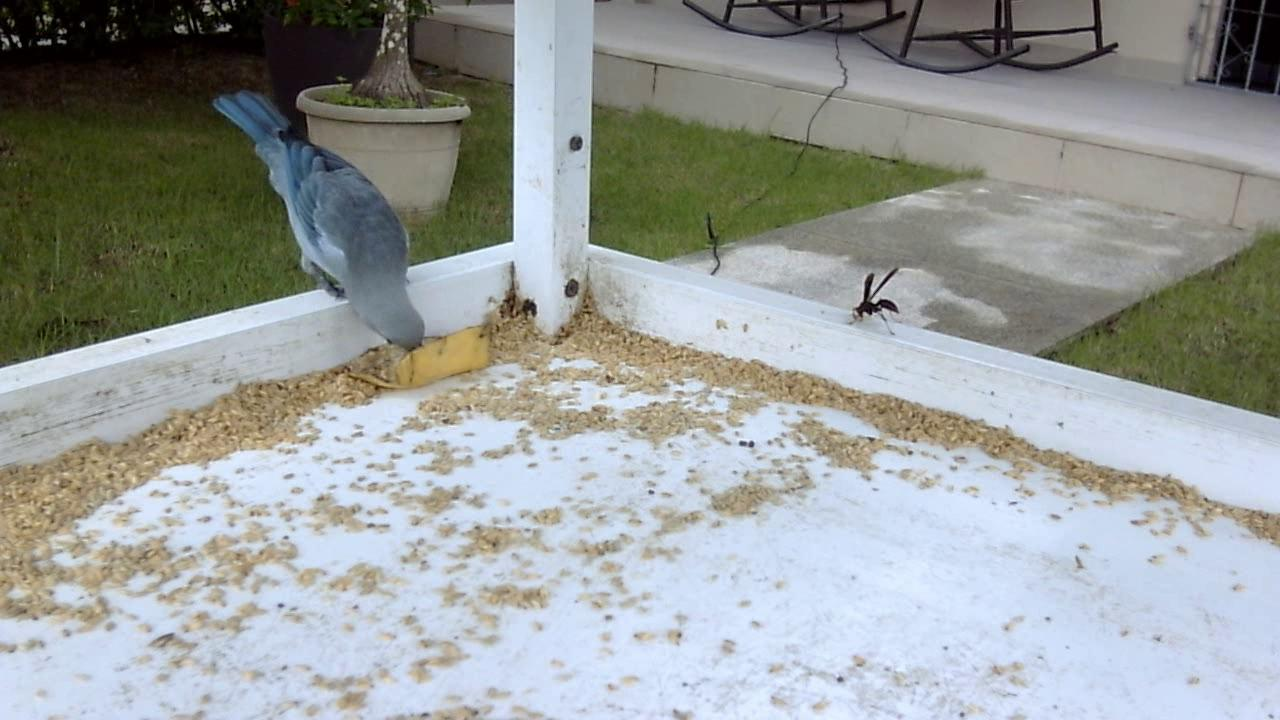sanhaco_da_amazonia: (206, 96, 430, 367)
